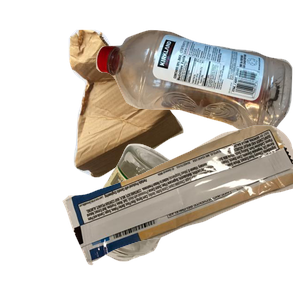cardboard: (66, 27, 242, 197)
glass: (85, 141, 275, 300)
plastic: (93, 27, 300, 154)
trash: (60, 123, 300, 300)
